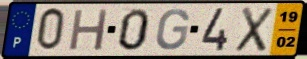0: (35, 6, 69, 54), (116, 7, 152, 52)
4: (200, 7, 230, 53)
G: (154, 8, 191, 52)
H: (67, 8, 111, 53)
X: (233, 6, 276, 54)
